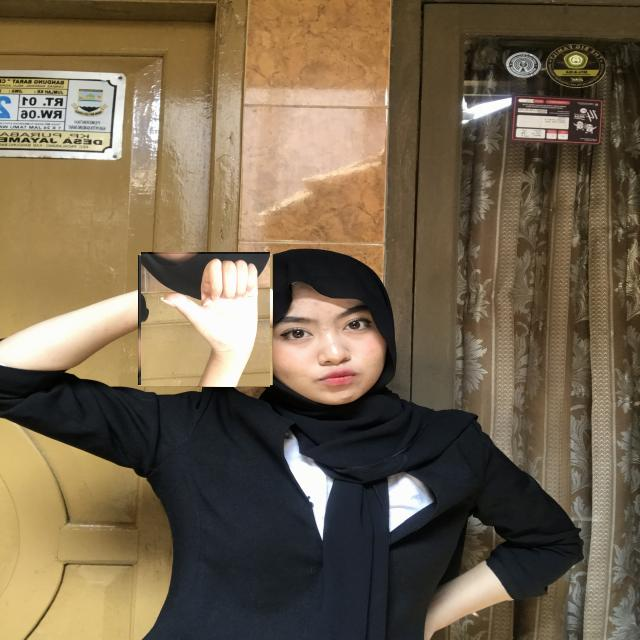sedih: (139, 254, 272, 386)
